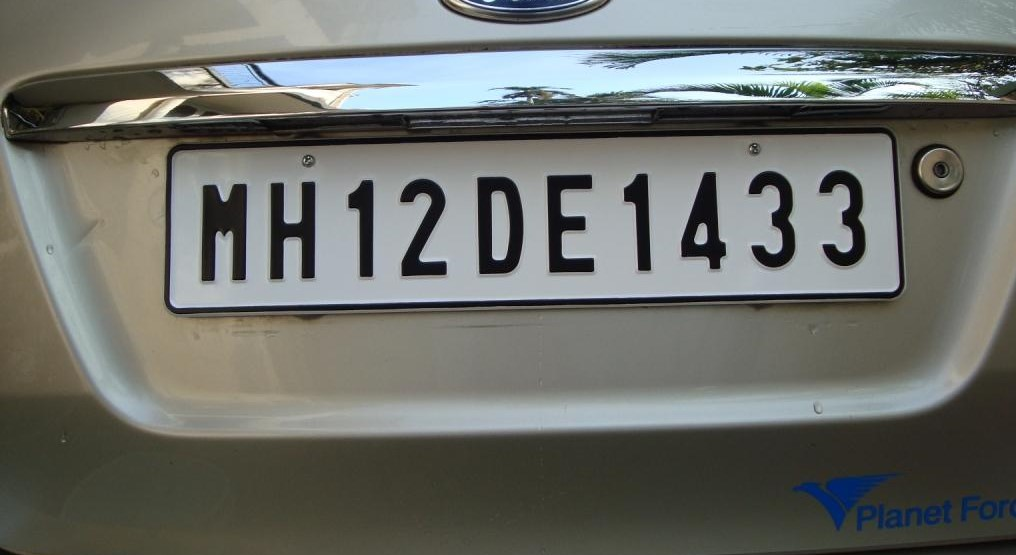MH12DE1433: (168, 128, 905, 314)
